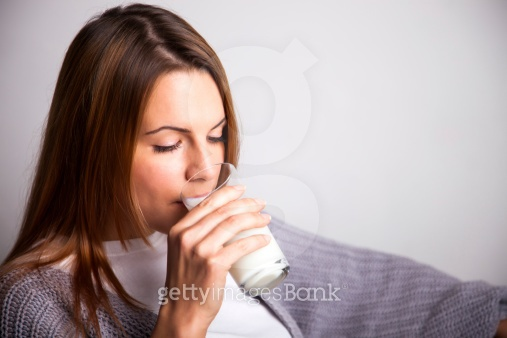glass of milk: (181, 165, 294, 301)
